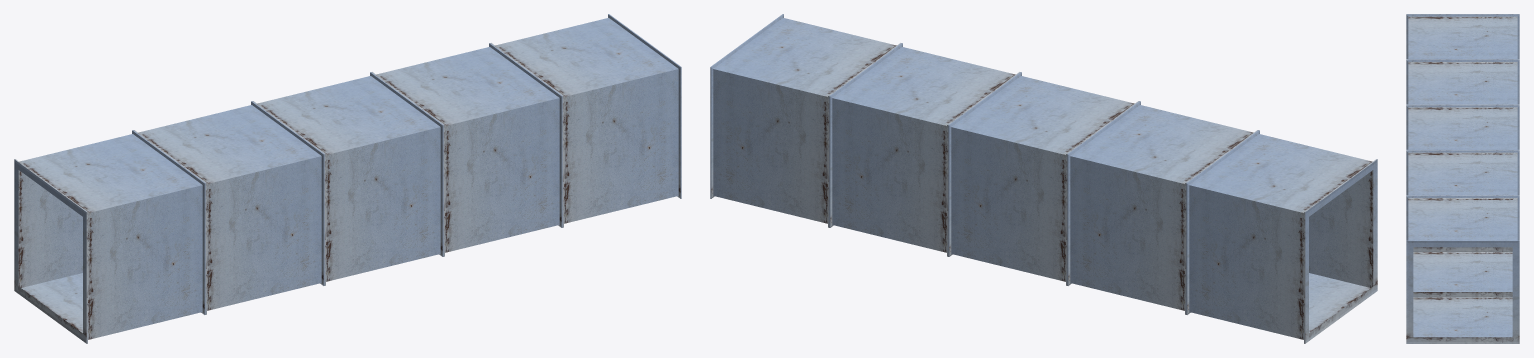
Rendered from SQUARE BASE.fbx.
3 views of the same model, side by side, from view 1: azimuth 30°, elevation 25°; view 2: azimuth 150°, elevation 25°; view 3: azimuth 270°, elevation 25° (orthographic). The views are drawn at different scales.
Parts seen in each view (by area): view 1: SQUARE BASE.001; view 2: SQUARE BASE.001; view 3: SQUARE BASE.001.
Boxes of the visible parts, <box> form: SQUARE BASE.001: <box>14,14,681,343</box>; SQUARE BASE.001: <box>710,14,1377,343</box>; SQUARE BASE.001: <box>1406,14,1519,343</box>.
Size of the model in its own units: 16.91 by 3.57 by 3.57.
